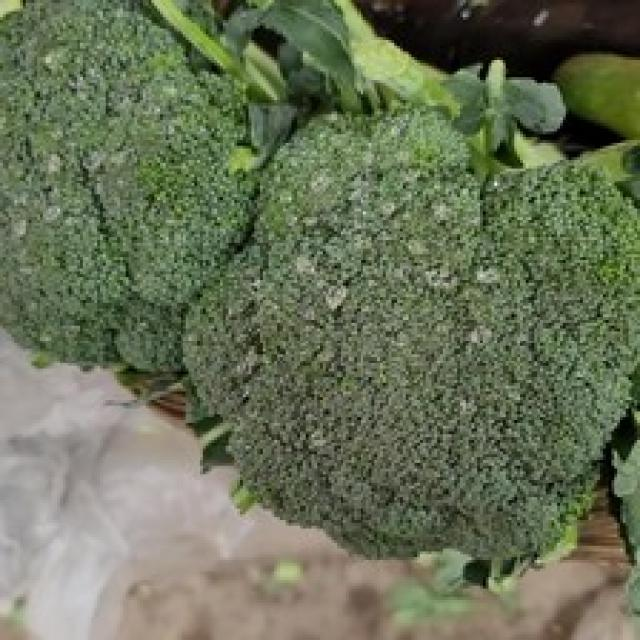Broccoli: (189, 111, 640, 558), (189, 111, 640, 558), (0, 1, 254, 371), (0, 1, 254, 371)
